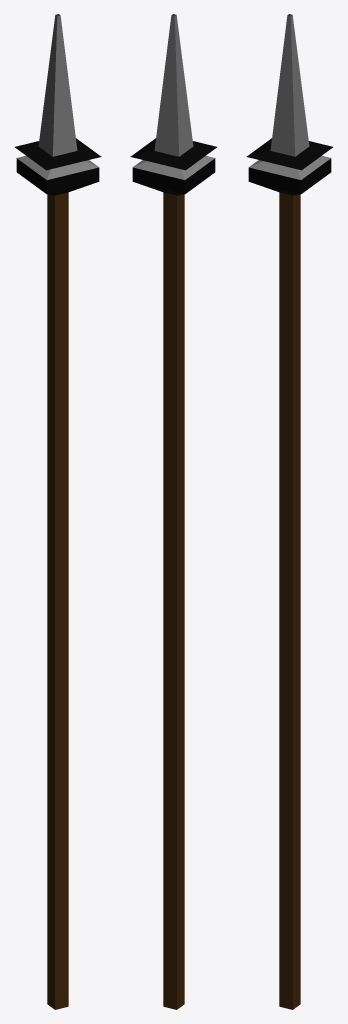
Rendered from tombak.fbx.
The picture shows the model from 3 angles, left to right: view 1: azimuth 30°, elevation 25°; view 2: azimuth 150°, elevation 25°; view 3: azimuth 330°, elevation 25°; orthographic projection.
Parts seen in each view (by area): view 1: Cube; view 2: Cube; view 3: Cube.
Boxes of the visible parts, left/top/right/bottom form: Cube: left=15, top=14, right=101, bottom=1009; Cube: left=130, top=14, right=216, bottom=1009; Cube: left=246, top=14, right=332, bottom=1009.
Size of the model in its own units: 7.79 by 133 by 7.79.
